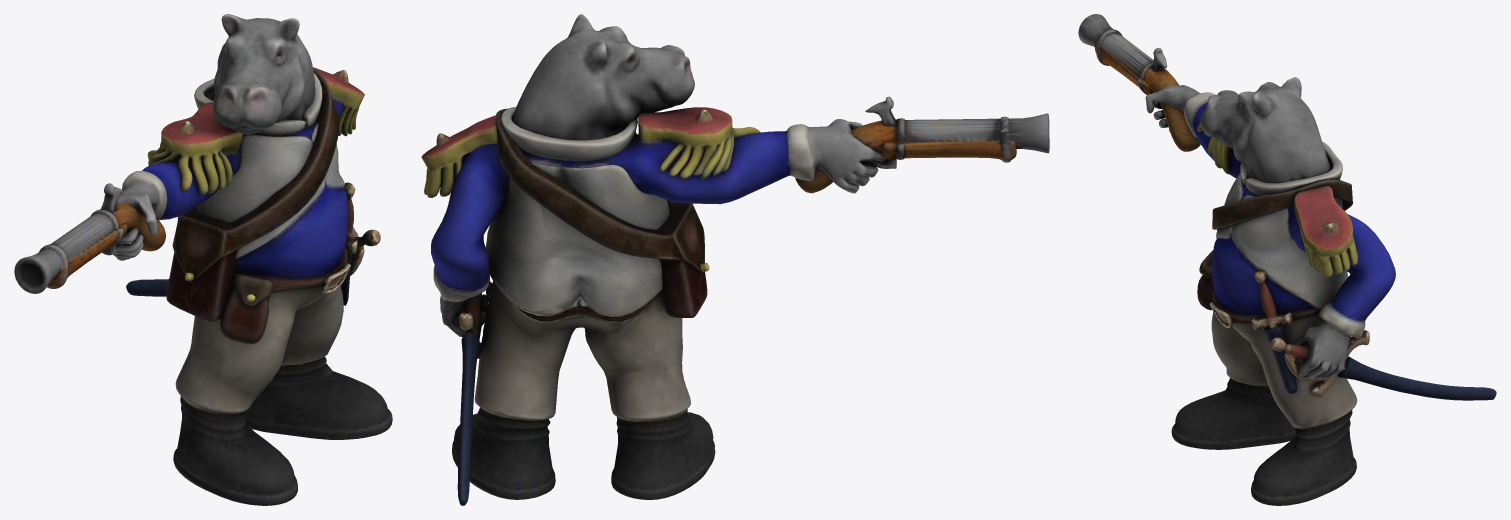
Rendered from MZ4250 - Giff.glb.
The picture shows the model from 3 angles, left to right: view 1: azimuth 30°, elevation 25°; view 2: azimuth 150°, elevation 25°; view 3: azimuth 270°, elevation 25°; orthographic projection. The views are drawn at different scales.
Parts seen in each view (by area): view 1: Dagger.001; view 2: Dagger.001; view 3: Dagger.001.
Part boxes in pixels (<box>): Dagger.001: <box>14,14,392,505</box>; Dagger.001: <box>421,14,1049,505</box>; Dagger.001: <box>1078,14,1496,505</box>.
Bounding box in the file's own units: 1.25 × 1.09 × 1.12.
Materials: 1 (1 with a texture image).
